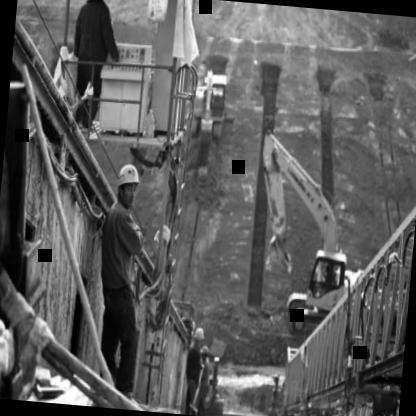helmet: (114, 160, 142, 209), (191, 324, 206, 348)
